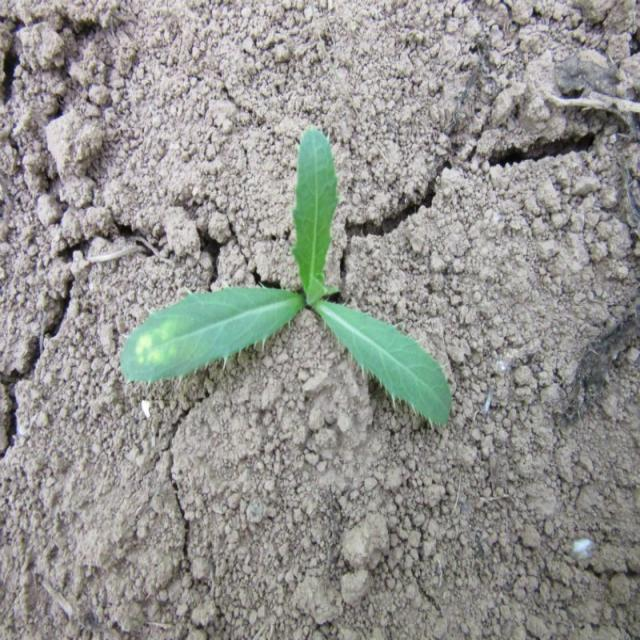field_thistle: (117, 130, 454, 437)
